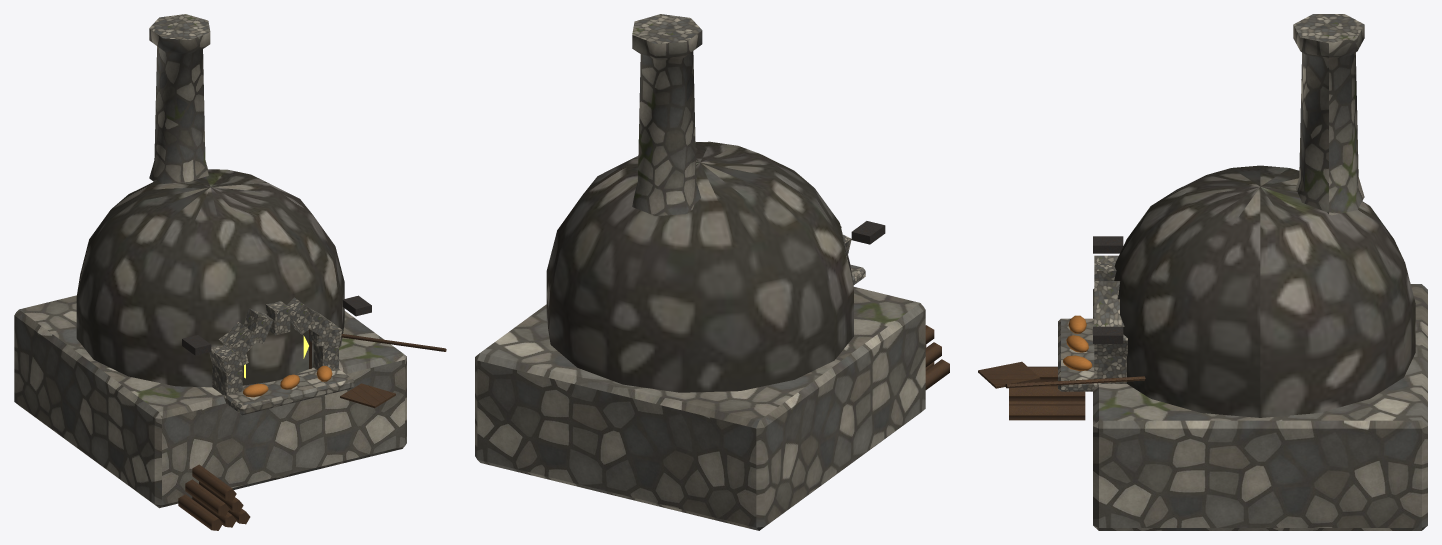
Rendered from bakery_oven_lod1.glb.
3 views of the same model, side by side, from view 1: azimuth 30°, elevation 25°; view 2: azimuth 150°, elevation 25°; view 3: azimuth 270°, elevation 25° (orthographic). The views are drawn at different scales.
Visible parts, largest first — view 1: bakery_oven; view 2: bakery_oven; view 3: bakery_oven.
Part boxes in pixels (x1,y1,x2,y2): bakery_oven: (14, 14, 446, 530); bakery_oven: (475, 14, 949, 530); bakery_oven: (978, 14, 1427, 530).
Size of the model in its own units: 2.2 by 3.15 by 2.95.
Materials: 1 (1 with a texture image).
